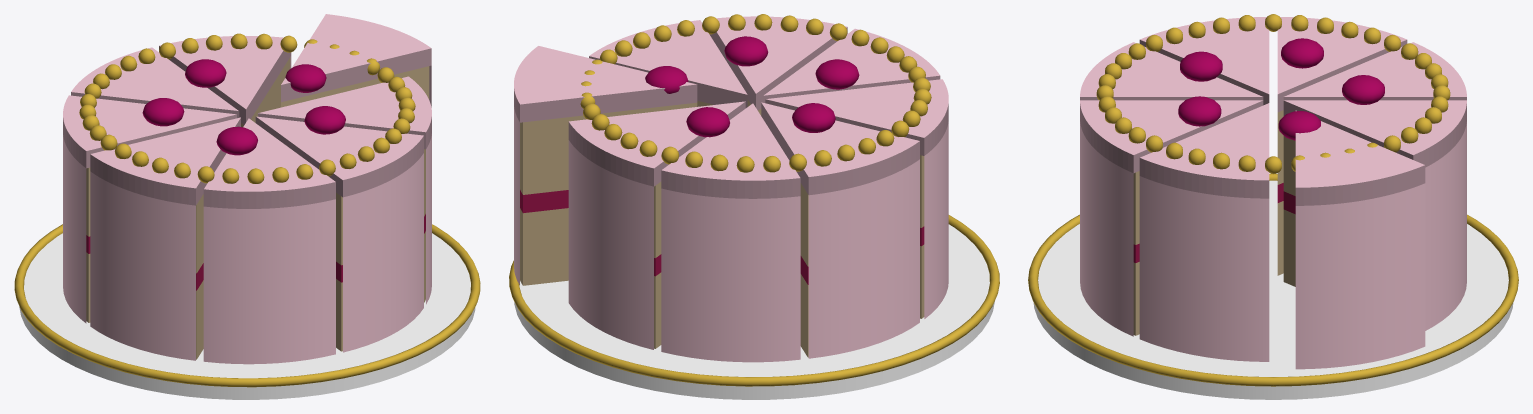
File: torta-18cm-10alto-1p-8porc-rosa.glb
The picture shows the model from 3 angles, left to right: view 1: azimuth 30°, elevation 25°; view 2: azimuth 150°, elevation 25°; view 3: azimuth 270°, elevation 25°; orthographic projection. The views are drawn at different scales.
Bounding box in the file's own units: 0.245 × 0.1216 × 0.245.
